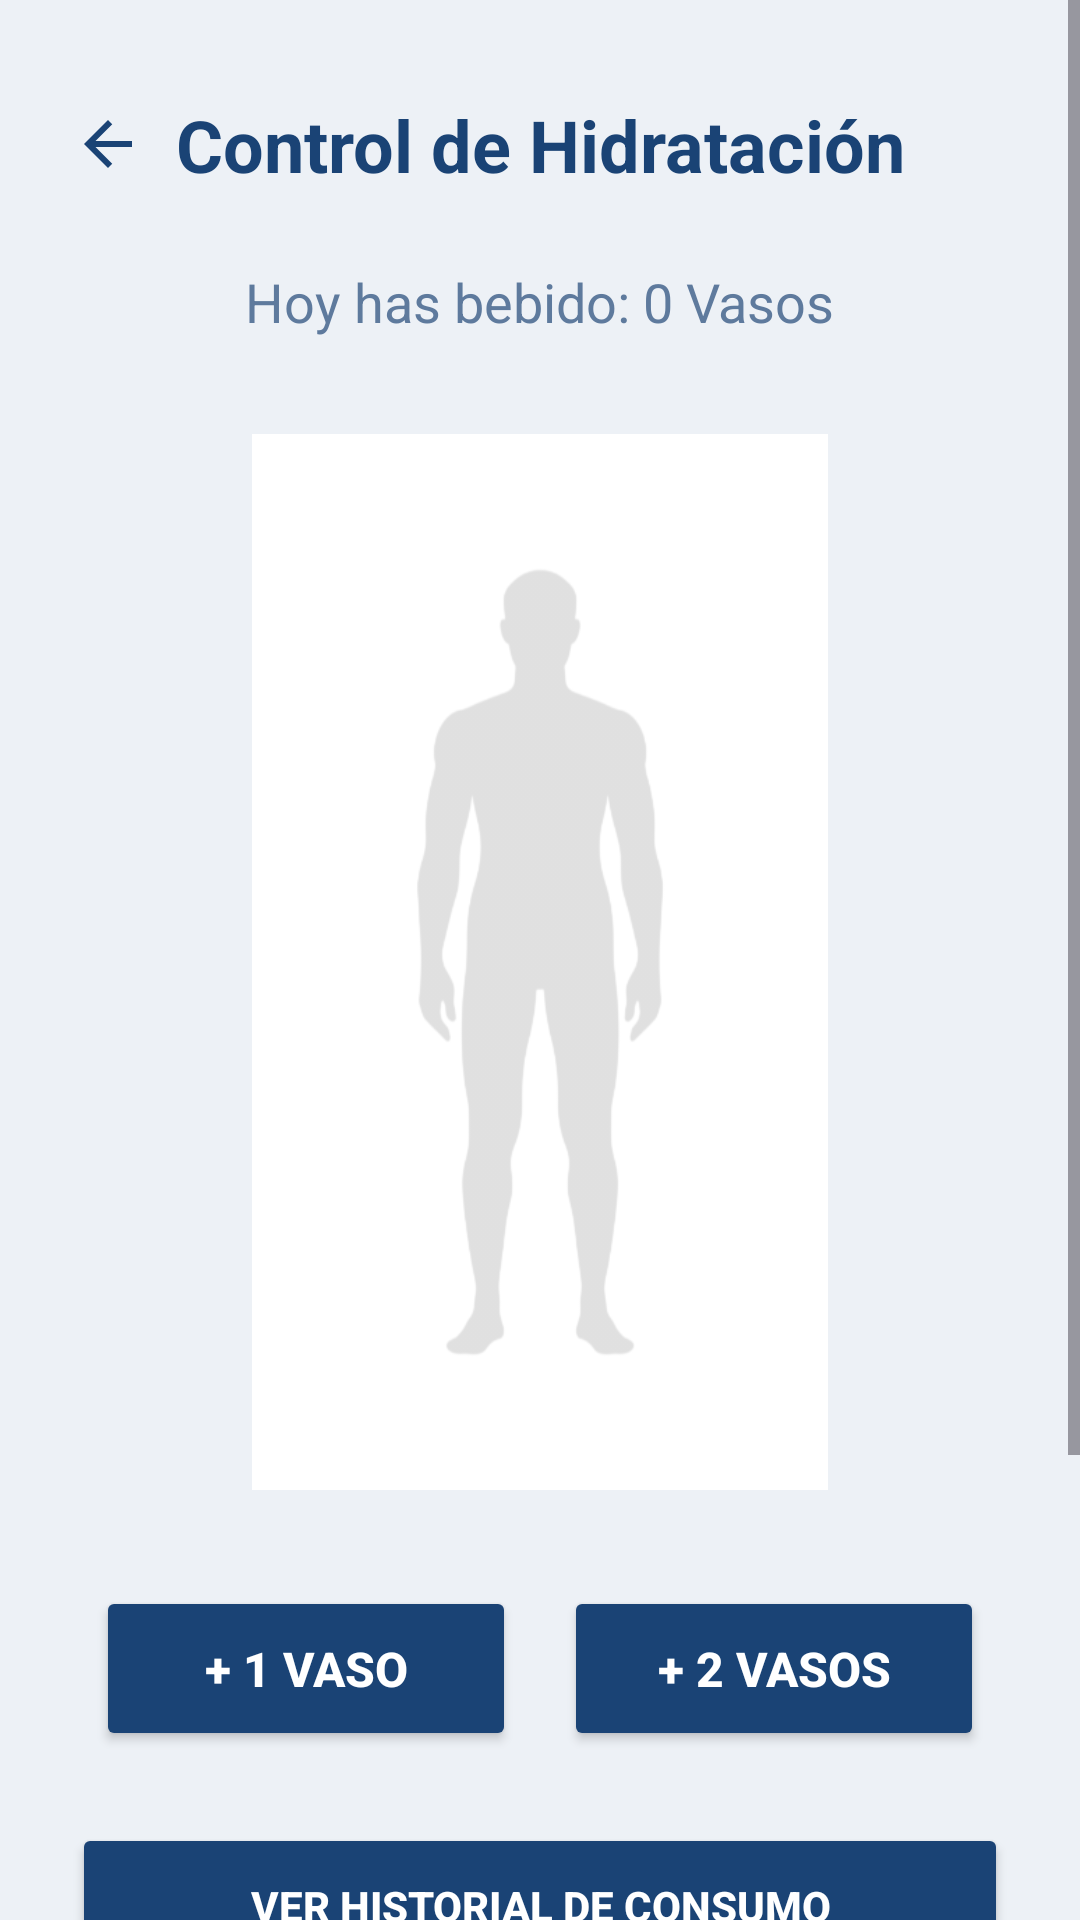

Screen size 1080x1920. Icon name, then its center in pixels as (x,y):
flecha regresar: (108,144)
